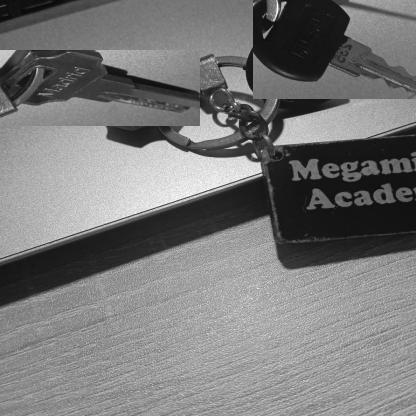key: (253, 0, 416, 99), (0, 50, 200, 126)
